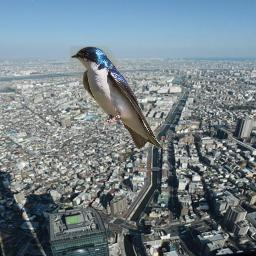Swallow: (70, 46, 164, 151)
